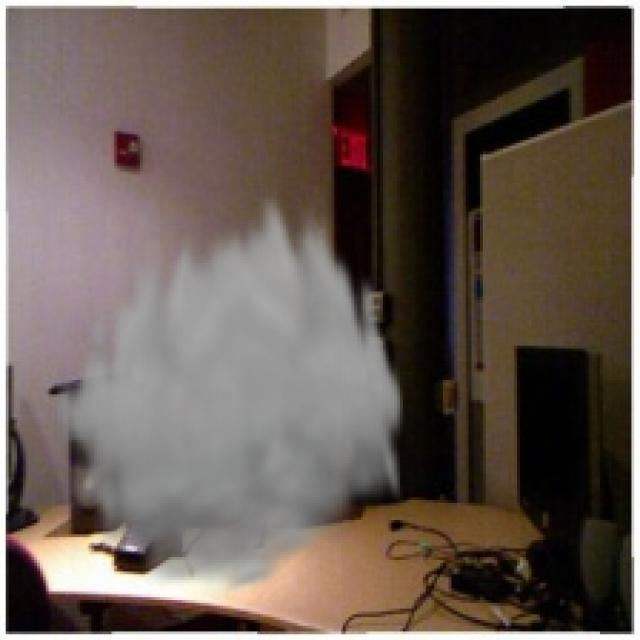Smoke: (49, 180, 408, 600)
